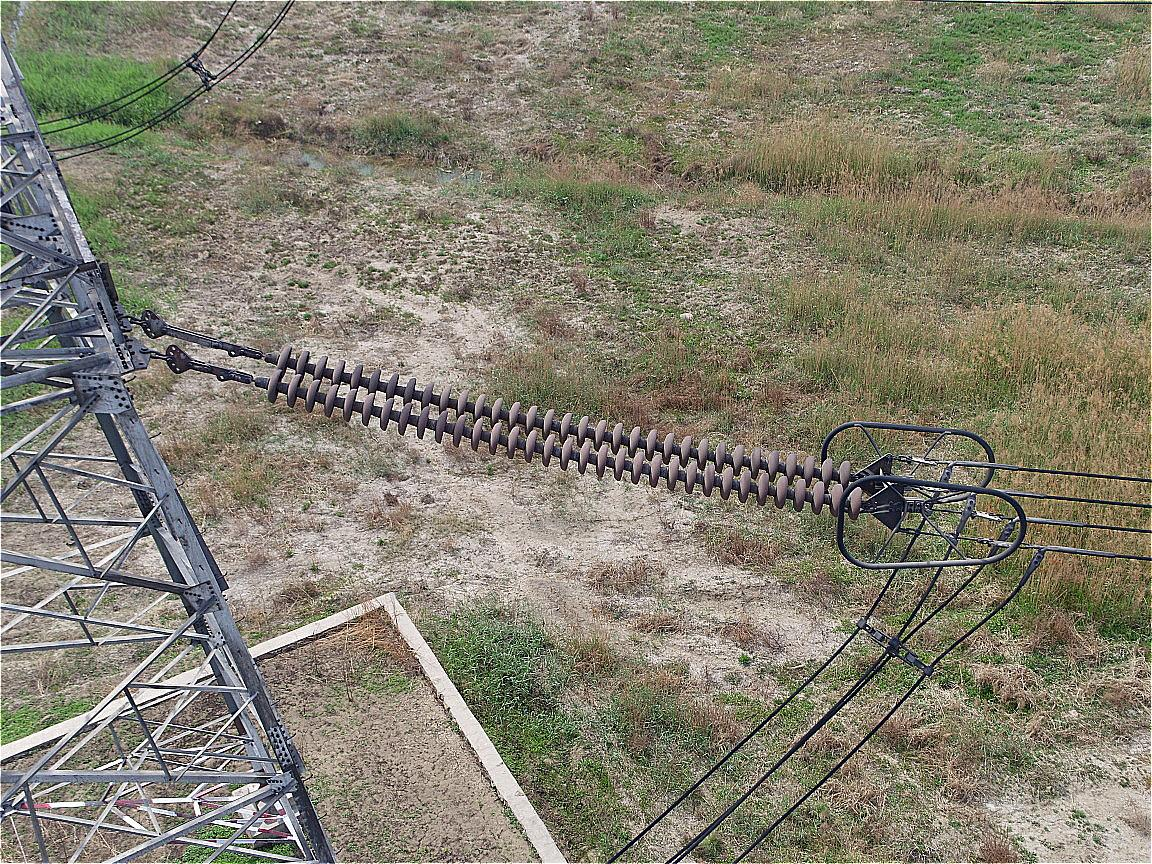insultor1: (264, 345, 865, 521)
